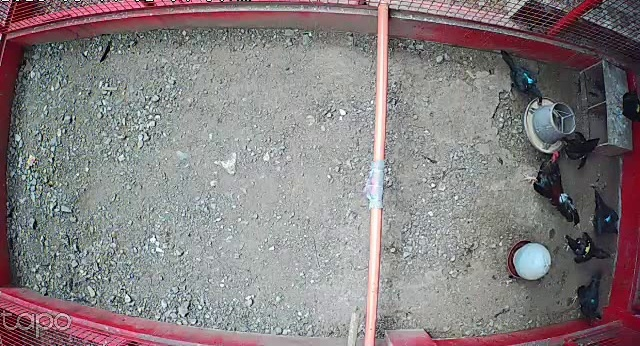Chicken: (495, 47, 544, 106), (559, 128, 604, 174), (558, 229, 611, 265), (584, 189, 622, 237), (570, 271, 604, 320)
Rooster: (518, 148, 582, 226)
Saddle_Color_Blue: (605, 215, 612, 222)
Saddle_Color_Yellow: (584, 242, 591, 255)
